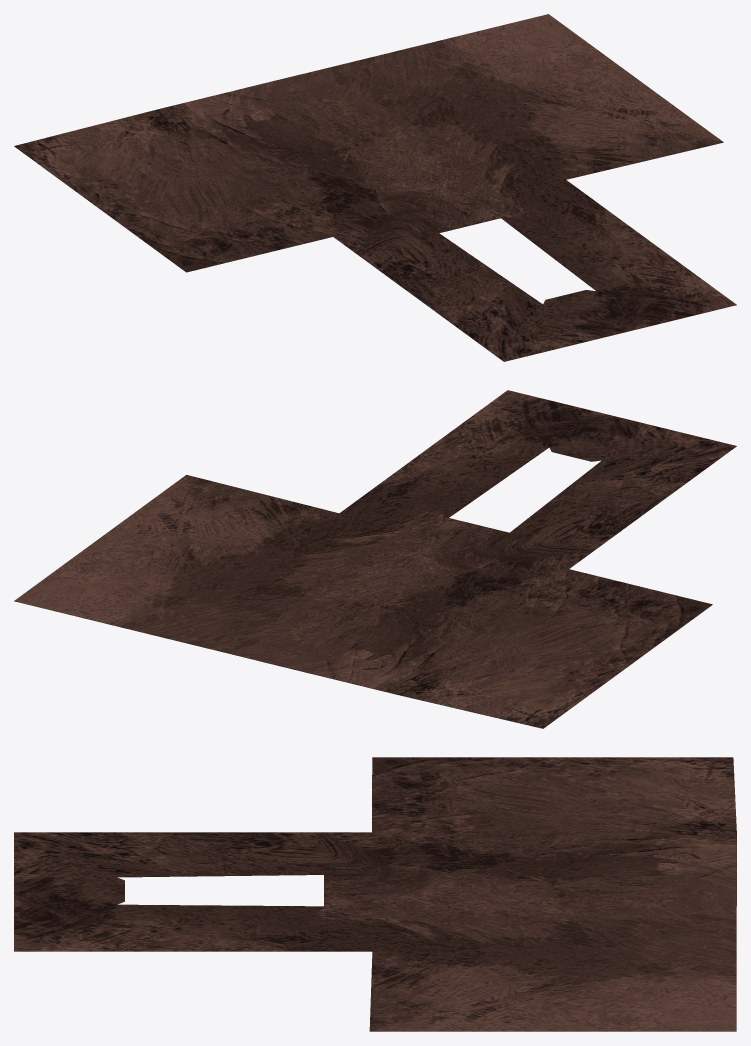
Rendered from first roof.fbx.
The picture shows the model from 3 angles, top to bottom: view 1: azimuth 30°, elevation 25°; view 2: azimuth 150°, elevation 25°; view 3: azimuth 270°, elevation 25°; orthographic projection. The views are drawn at different scales.
Visible parts, largest first — view 1: pasted__pasted__pCube7; view 2: pasted__pasted__pCube7; view 3: pasted__pasted__pCube7.
Part boxes in pixels (left/top/right/bottom): pasted__pasted__pCube7: left=14, top=14, right=736, bottom=361; pasted__pasted__pCube7: left=14, top=390, right=736, bottom=728; pasted__pasted__pCube7: left=14, top=757, right=736, bottom=1031.
Bounding box in the file's own units: 6182 × 3.31 × 6892.
